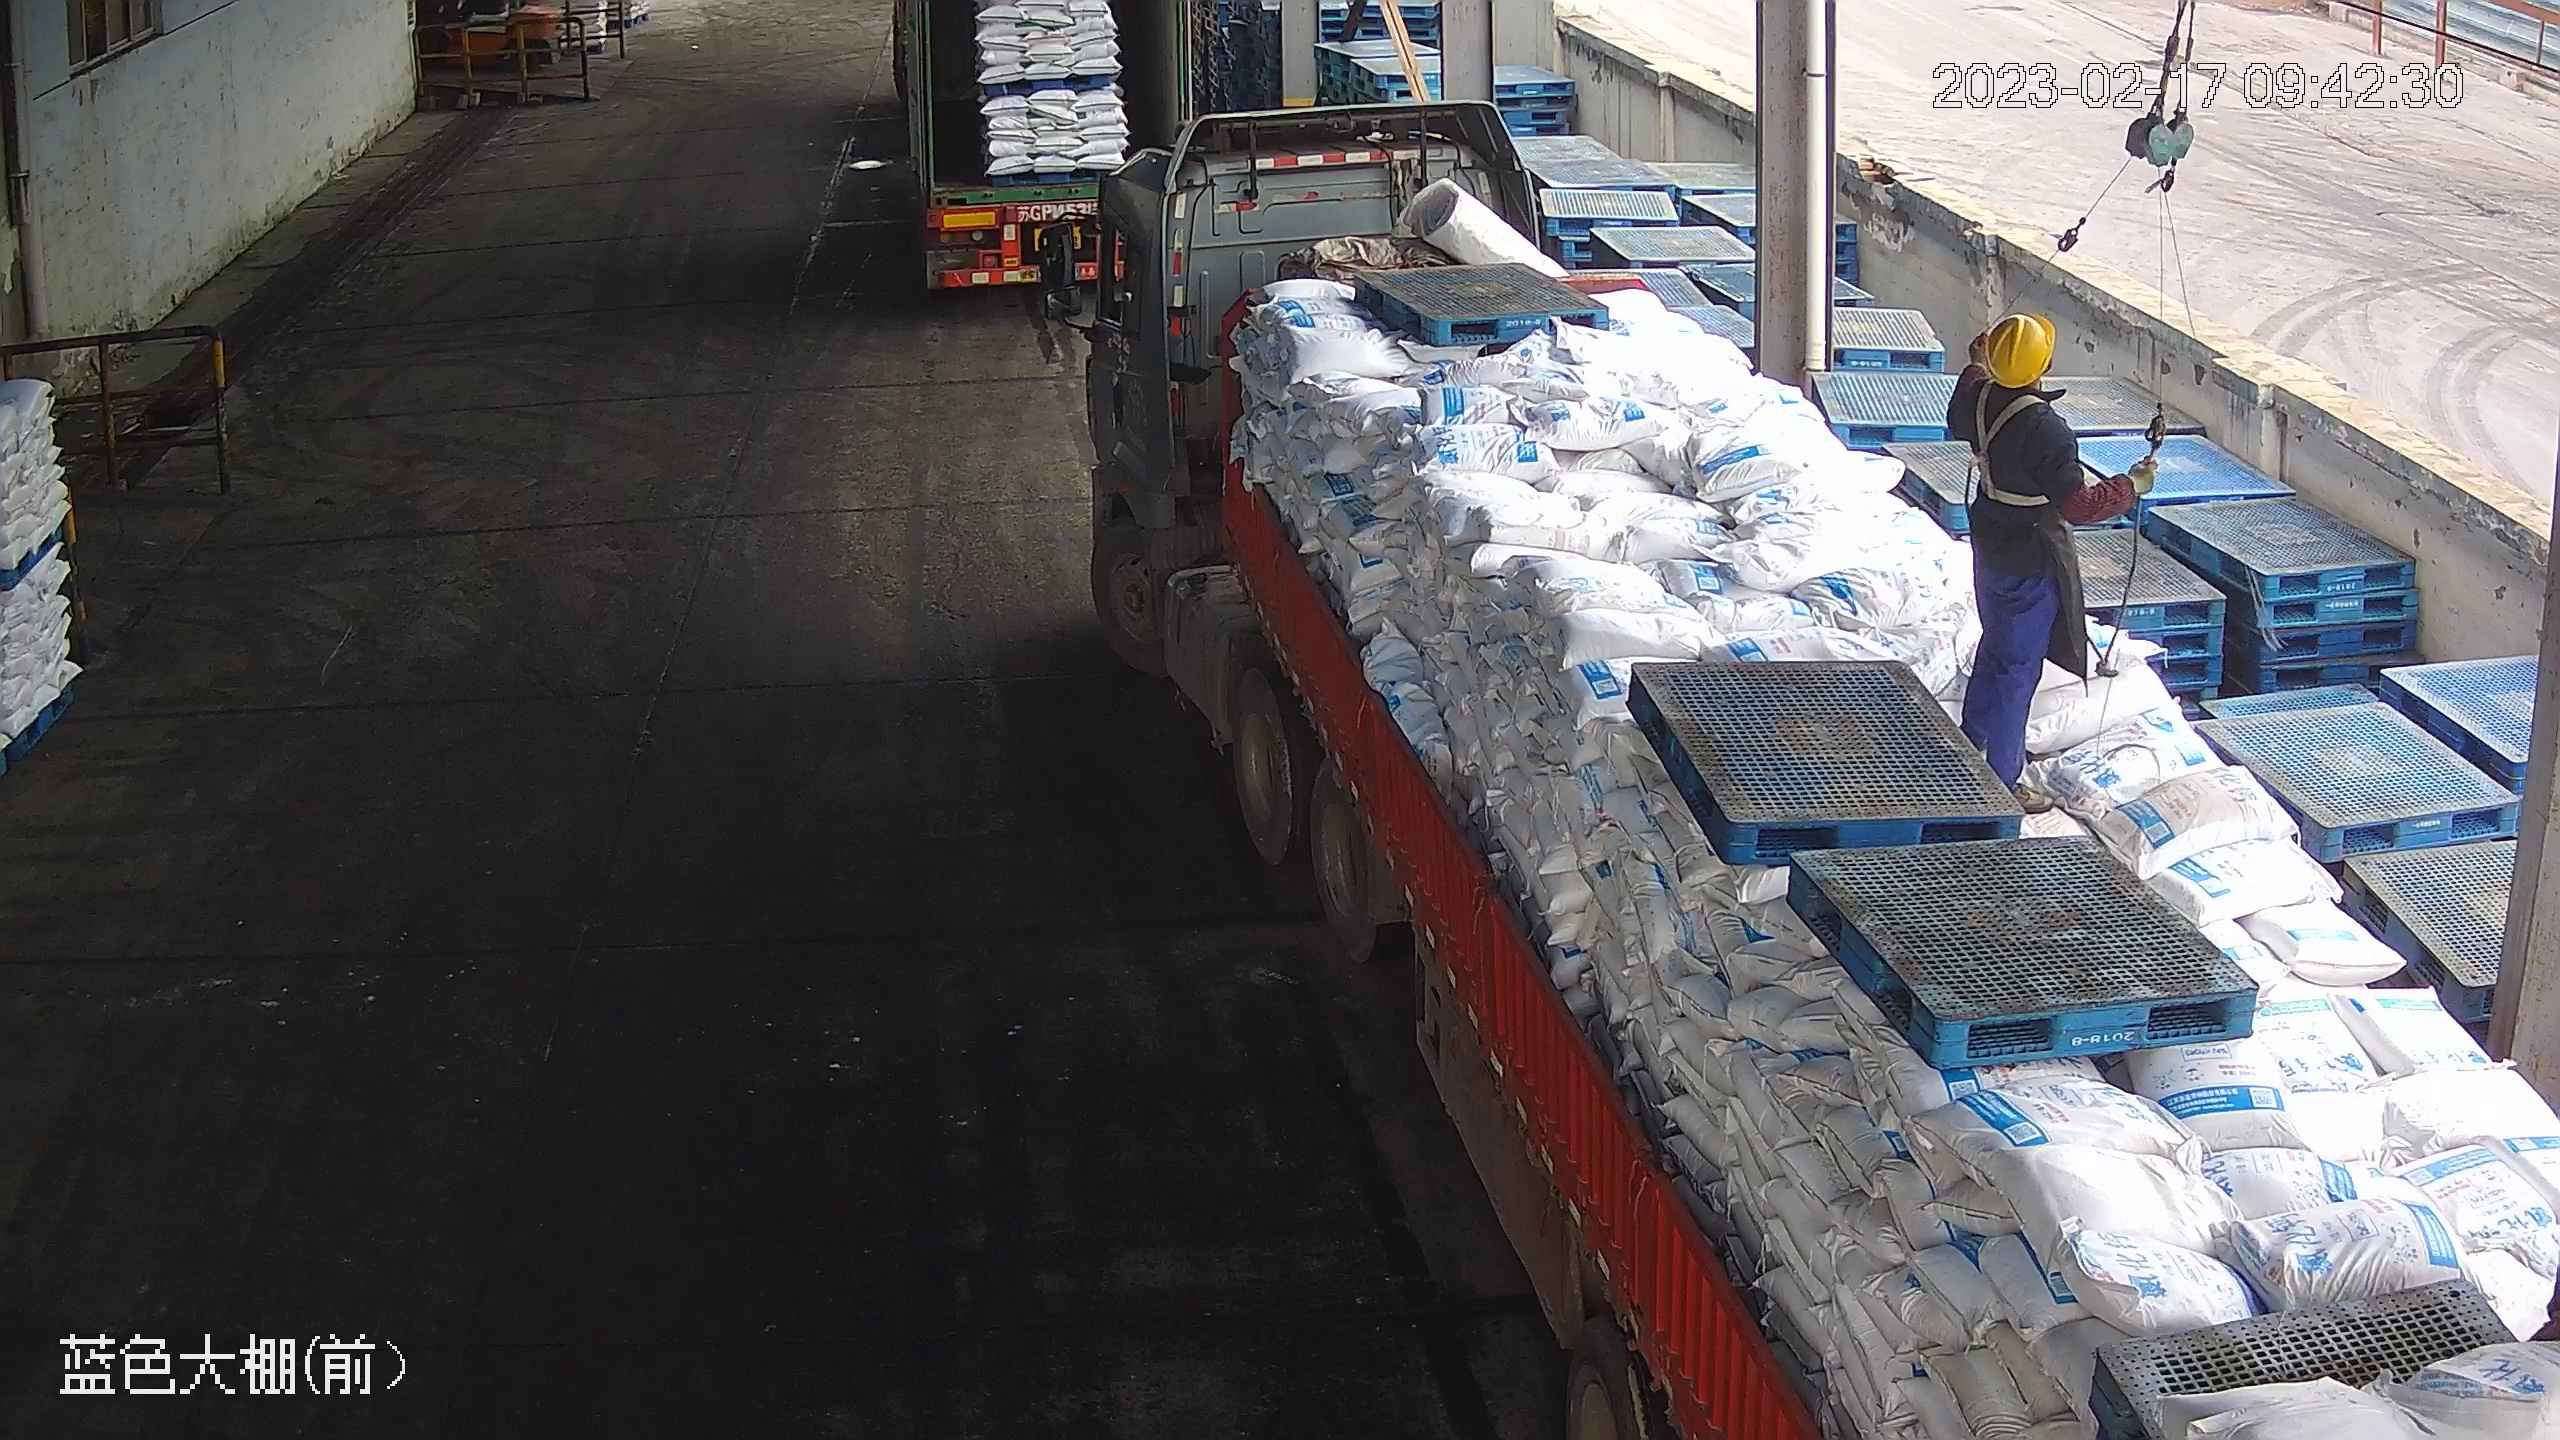belt: (1963, 385, 2062, 507)
head: (1963, 304, 2080, 477)
helmet: (1976, 303, 2057, 392)
people: (1954, 308, 2162, 802)
truck: (1035, 101, 2555, 1440), (891, 1, 1186, 293)
